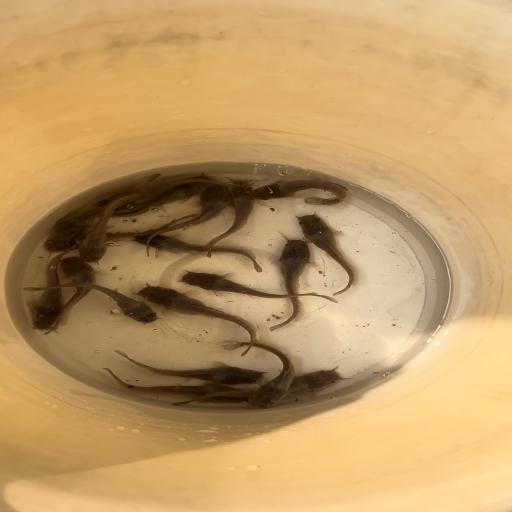lele: (135, 283, 259, 357), (42, 175, 164, 240), (170, 370, 343, 410), (43, 212, 200, 256), (140, 182, 230, 256), (92, 178, 255, 216), (180, 268, 340, 304), (21, 284, 160, 324), (101, 366, 246, 404), (220, 340, 297, 410), (134, 232, 264, 273), (296, 214, 360, 295), (114, 350, 264, 384), (23, 245, 80, 333), (96, 175, 210, 219), (201, 177, 257, 259), (266, 238, 314, 333), (81, 191, 145, 262), (48, 256, 95, 336), (248, 178, 352, 206)
